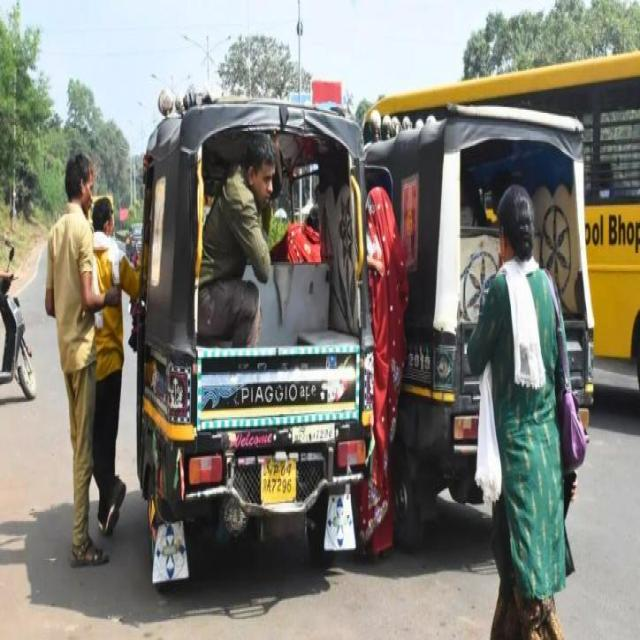autorickshaw: (136, 100, 380, 583), (365, 106, 595, 545)
bus: (380, 51, 640, 361)
